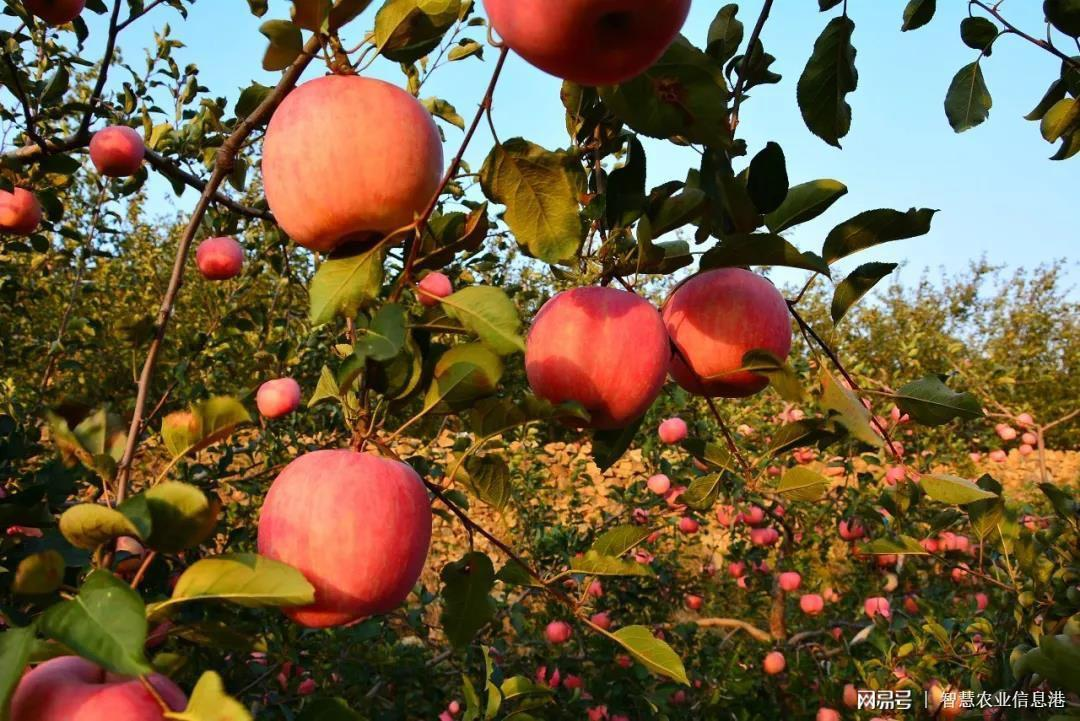apple: (260, 72, 444, 252), (256, 447, 436, 626), (523, 281, 671, 428), (483, 1, 694, 88), (662, 264, 794, 397), (10, 656, 171, 719), (88, 124, 146, 177), (195, 235, 244, 279), (1, 184, 43, 234), (254, 376, 301, 419), (23, 1, 87, 27)
